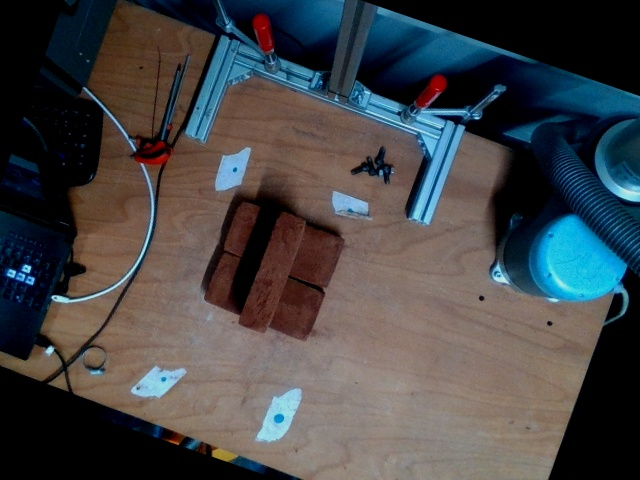brick-side: (236, 211, 307, 335)
